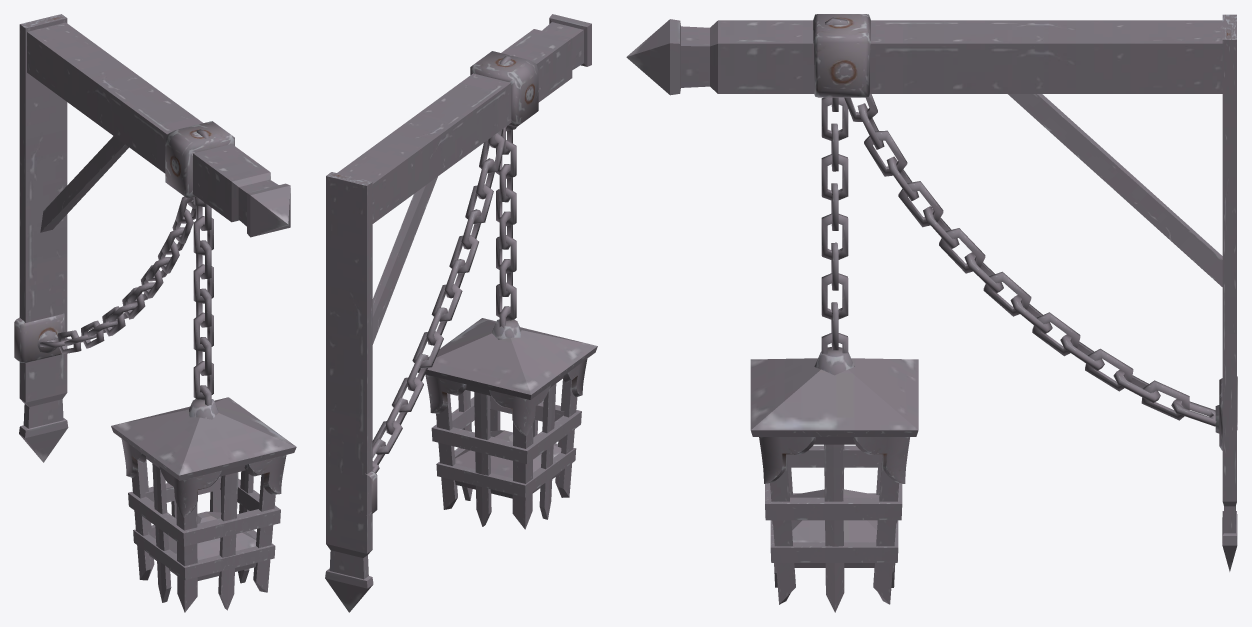
File: Lantern_Wall.gltf
3 views of the same model, side by side, from view 1: azimuth 30°, elevation 25°; view 2: azimuth 150°, elevation 25°; view 3: azimuth 270°, elevation 25° (orthographic). The views are drawn at different scales.
Visible parts, largest first — view 1: Lantern_Wall; view 2: Lantern_Wall; view 3: Lantern_Wall.
Boxes of the visible parts, x1,y1,x2,y2 form: Lantern_Wall: (14, 14, 296, 612); Lantern_Wall: (325, 14, 597, 612); Lantern_Wall: (626, 14, 1237, 612).
Size of the model in its own units: 0.3573 by 1.34 by 1.3.
Materials: 1 (1 with a texture image).
